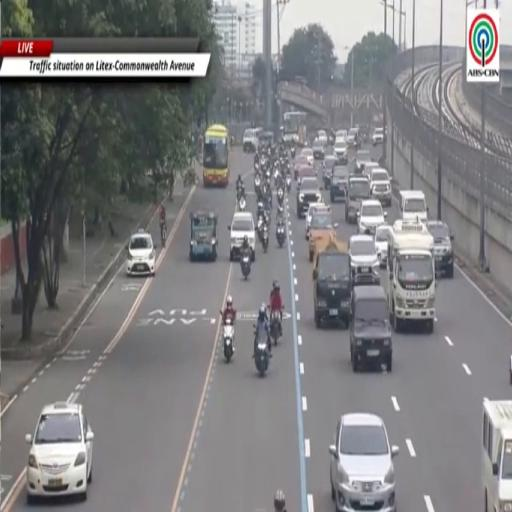bus: (203, 124, 229, 186), (283, 111, 306, 147)
car: (26, 403, 94, 504), (329, 413, 399, 511), (349, 271, 392, 372), (427, 220, 454, 278), (309, 212, 337, 262), (228, 212, 255, 262), (126, 230, 155, 276), (349, 235, 380, 269), (297, 179, 323, 218), (358, 200, 387, 234), (306, 202, 330, 239), (370, 168, 392, 206), (375, 224, 391, 268), (330, 166, 349, 202), (322, 154, 337, 188), (297, 166, 317, 186), (294, 155, 310, 180), (355, 150, 372, 173), (243, 130, 257, 153), (362, 162, 380, 179), (312, 140, 324, 161), (346, 128, 359, 147), (301, 148, 314, 166), (298, 175, 317, 187), (334, 140, 347, 157), (373, 128, 384, 146), (316, 130, 328, 145), (335, 130, 347, 141)
motorcycle: (254, 325, 269, 377), (224, 317, 234, 362), (270, 311, 279, 345), (240, 254, 251, 280), (276, 226, 285, 248), (265, 187, 273, 211), (262, 226, 269, 252), (257, 216, 264, 242), (255, 173, 261, 200), (276, 188, 284, 207), (237, 185, 245, 201), (257, 201, 264, 219), (286, 174, 292, 194), (274, 166, 280, 184), (239, 197, 246, 212), (255, 173, 261, 190), (265, 170, 270, 185), (260, 156, 266, 168), (254, 160, 259, 171), (291, 147, 295, 158)
truck: (387, 220, 436, 333), (313, 236, 351, 328), (481, 399, 511, 511), (345, 174, 370, 222), (399, 190, 428, 222)
